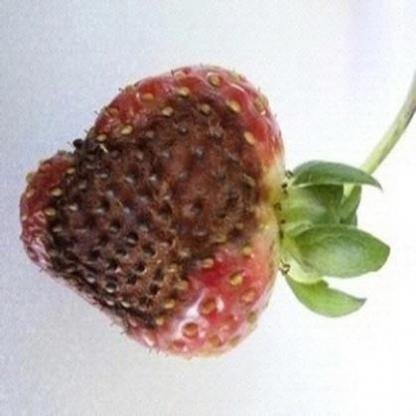Strawberry_Anthracnose_Fruit_Rot: (20, 84, 271, 341)
